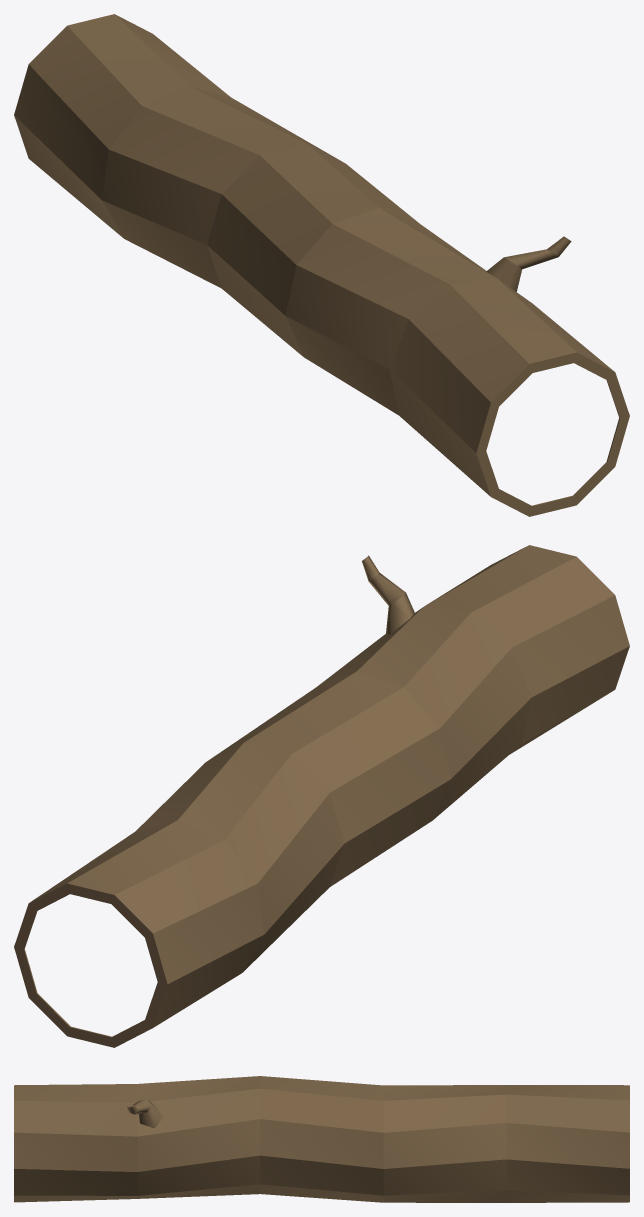
Rendered from jp_trunk.glb.
3 renders of one model, top to bottom at view 1: azimuth 30°, elevation 25°; view 2: azimuth 150°, elevation 25°; view 3: azimuth 270°, elevation 25°, orthographic. The views are drawn at different scales.
Parts seen in each view (by area): view 1: Material2; view 2: Material2; view 3: Material2.
Boxes of the visible parts, left/top/right/bottom form: Material2: left=14, top=14, right=629, bottom=516; Material2: left=14, top=545, right=629, bottom=1047; Material2: left=14, top=1076, right=629, bottom=1202.
Bounding box in the file's own units: 10.83 × 10.68 × 46.47.
